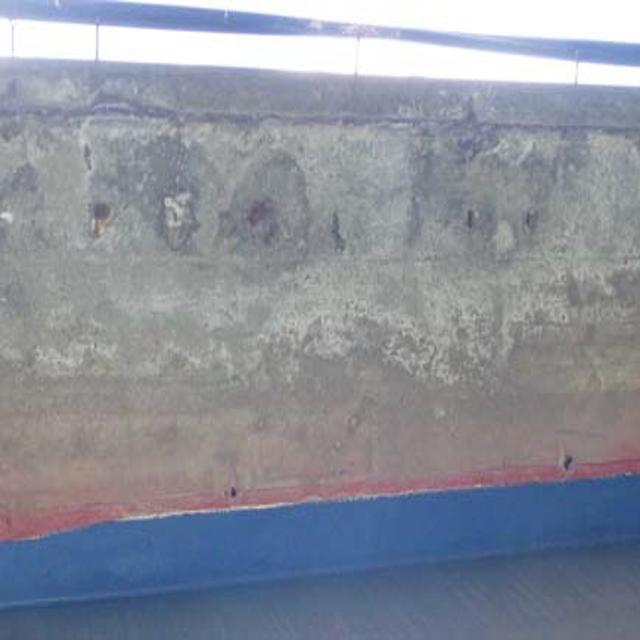spalling: (61, 79, 326, 274)
